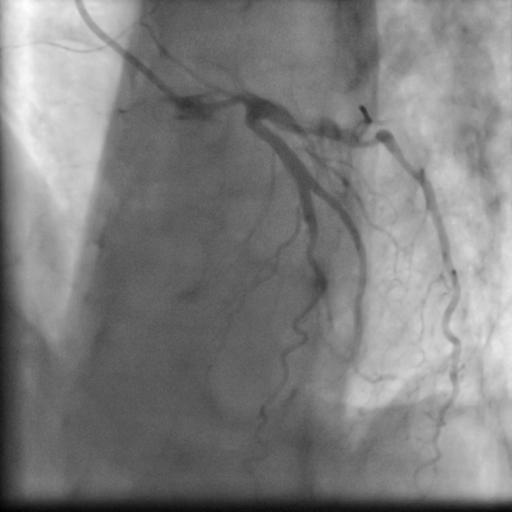Stenosis: (352, 125, 382, 152)
